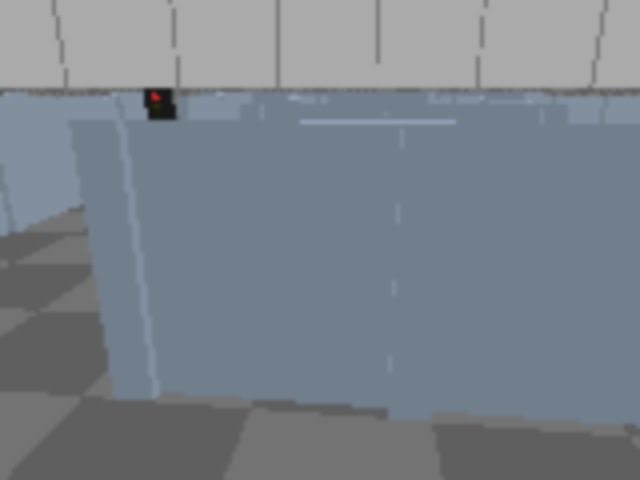traffic_light: (143, 85, 178, 153)
